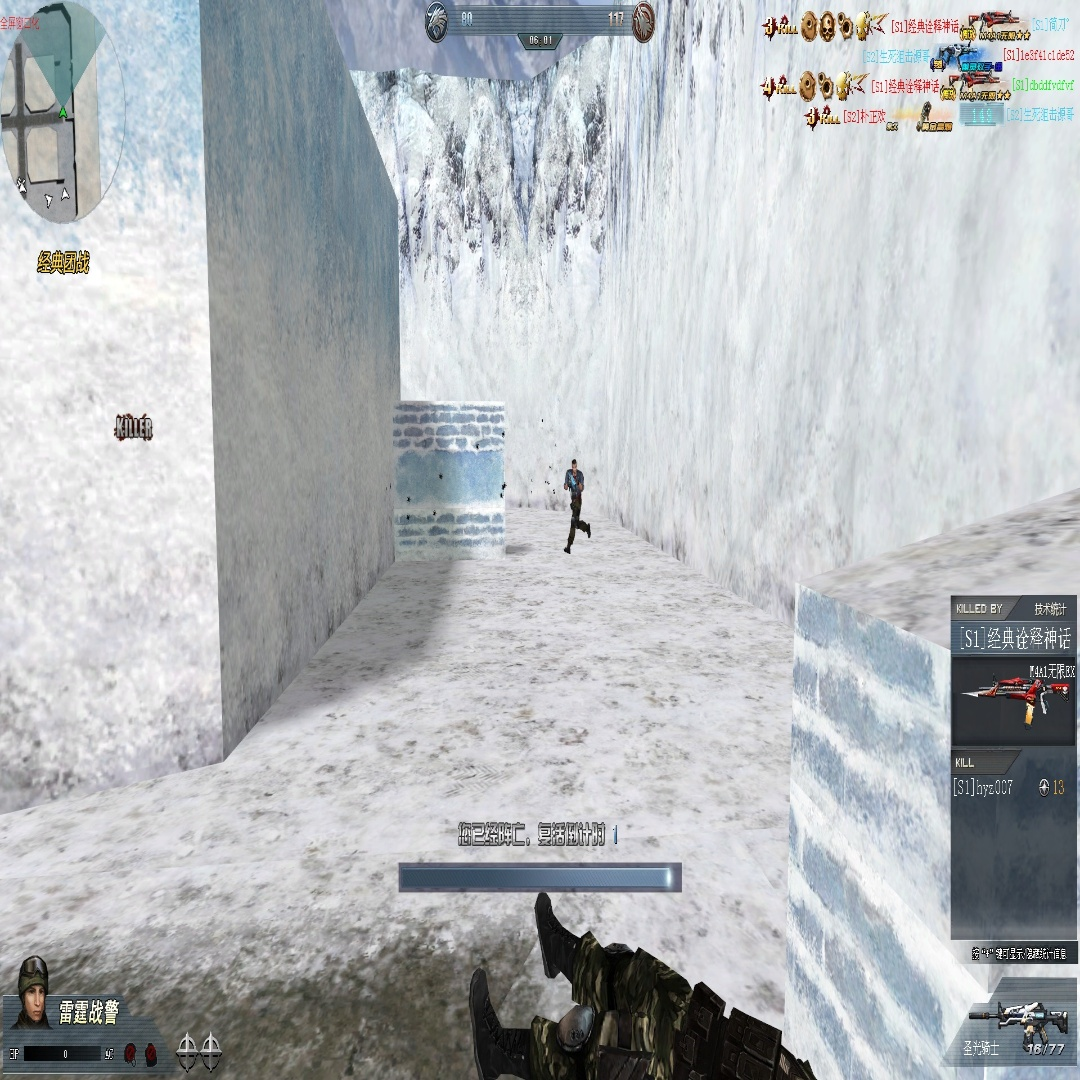t: (562, 455, 586, 554)
